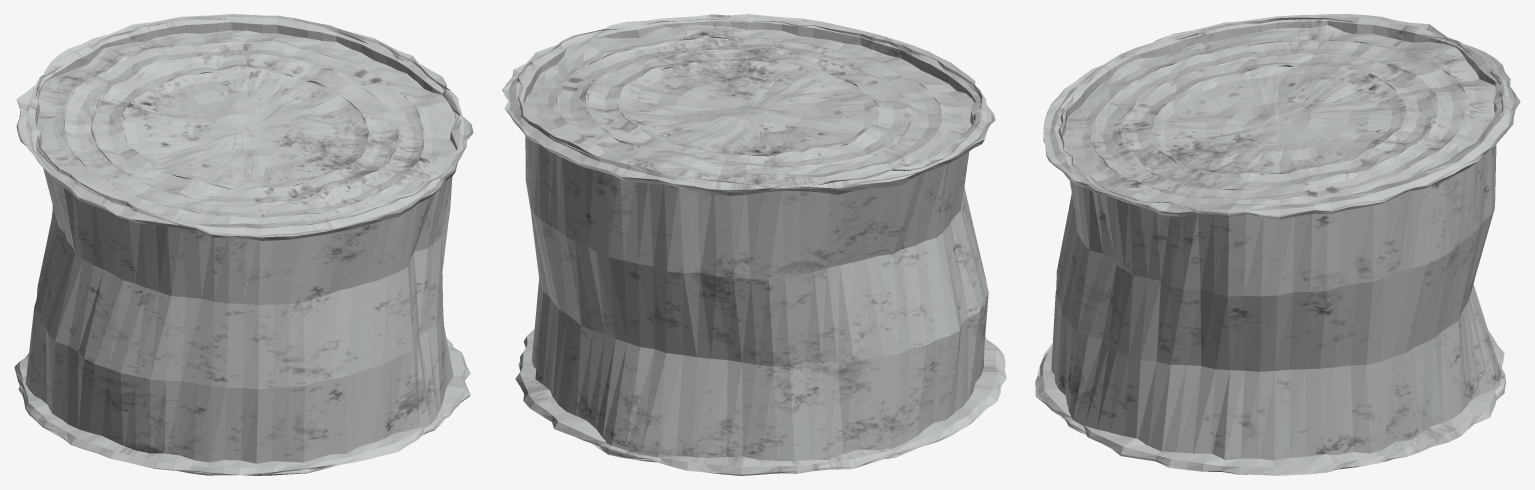
Rendered from crush_high_0.obj.
3 views of the same model, side by side, from view 1: azimuth 30°, elevation 25°; view 2: azimuth 150°, elevation 25°; view 3: azimuth 270°, elevation 25° (orthographic). The views are drawn at different scales.
Visible parts, largest first — view 1: Cam_l__0; view 2: Cam_l__0; view 3: Cam_l__0.
Boxes of the visible parts, left/top/right/bottom form: Cam_l__0: left=14, top=14, right=473, bottom=475; Cam_l__0: left=502, top=14, right=1006, bottom=475; Cam_l__0: left=1035, top=14, right=1520, bottom=475.
Bounding box in the file's own units: 0.0961 × 0.0632 × 0.096.
Materials: 1 (1 with a texture image).
